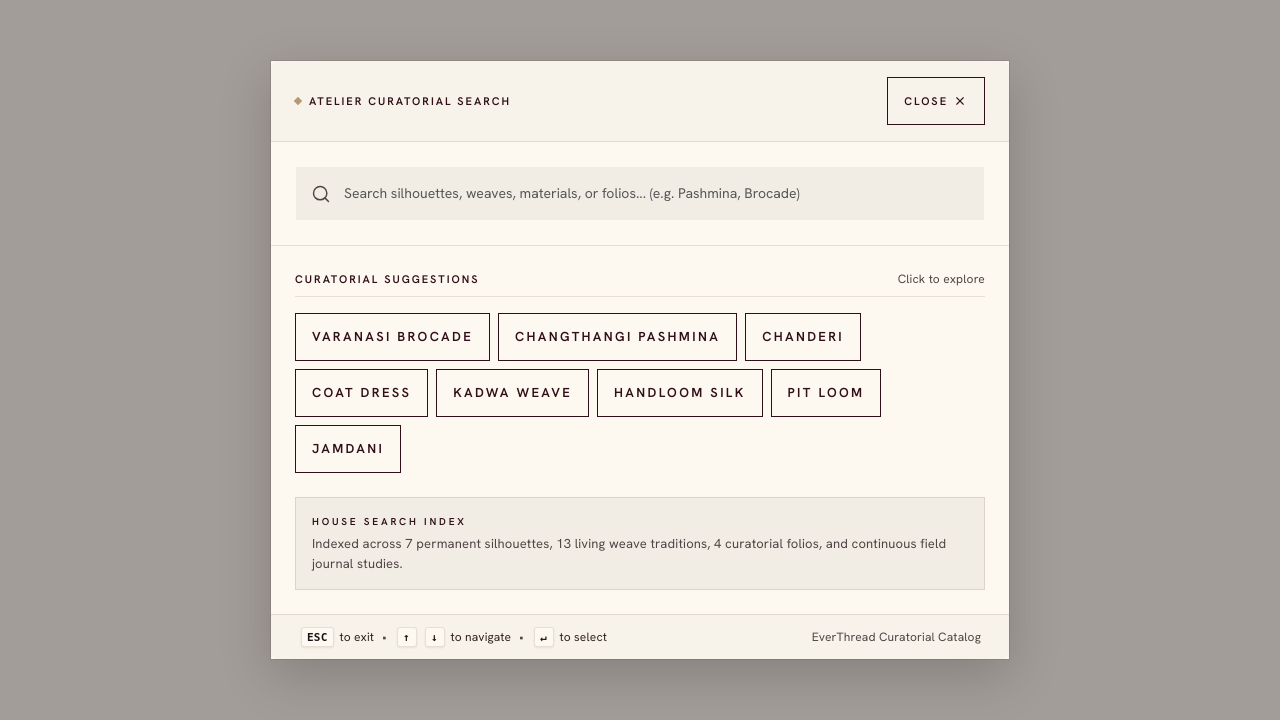
Test: Phase 7.3: Commerce Corrections & Traditional Atelier Lens Suite › 1. Search Modal Chanderi and Editorial Navigation › displays canonical Angrakha Asymmetric Sheer Tunic (et-04) with Order Folio badge
This screenshot has width=1280, height=720.
Replace the text in the field with test id "search-input" with "Chanderi": (640, 194) x1=295 y1=166 x2=985 y2=221
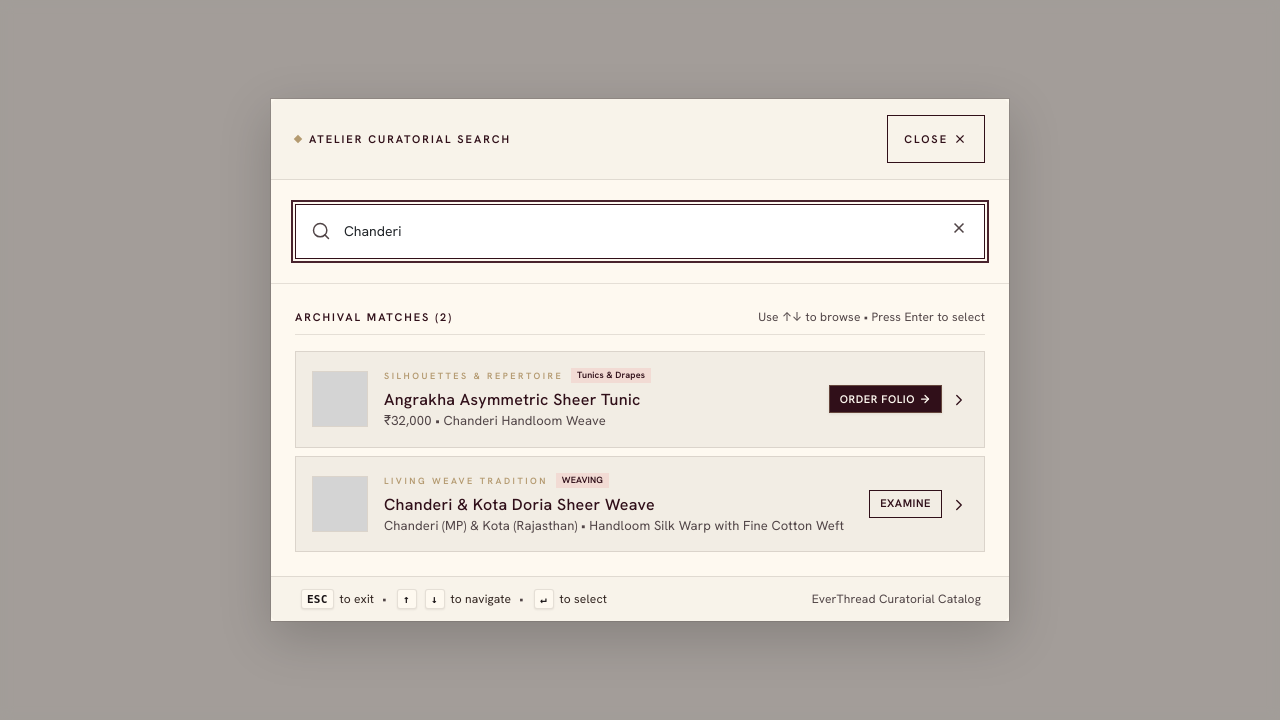
Now the heading "Angrakha Asymmetric Sheer Tunic" is shown, box x1=384 y1=389 x2=641 y2=410
Now the text "₹32,000 • Chanderi Handloom Weave" is shown, box x1=384 y1=412 x2=606 y2=429
Now the text "Order Folio" is shown, box x1=840 y1=394 x2=915 y2=405
